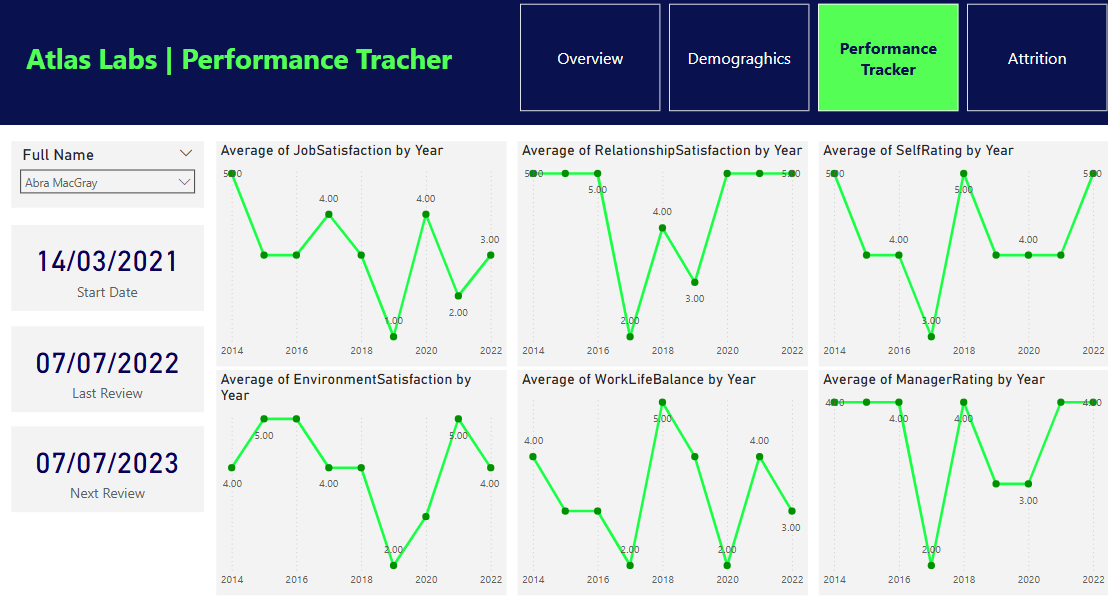

Layout of this report page (visuals, bound fields, positions):
{"tool":"powerbi","page":{"name":"Performance Tracker","canvas":[1280,720],"ordinal":2},"visuals":[{"type":"shape","box":[0,0,1279.7,155.8],"z":0},{"type":"pageNavigator","box":[599.6,16.2,680.4,124.4],"z":1000},{"type":"slicer","fields":{"Values":["Employee.Full Name"]},"box":[13,174.6,222.2,76.5],"z":2000},{"type":"card","fields":{"Values":["Min(Employee.HireDate)"]},"box":[13,271.2,222.2,99.6],"z":3000},{"type":"card","fields":{"Values":["Max(PerformanceRating.ReviewDate)"]},"box":[13,388.1,222.2,99.6],"z":4000},{"type":"card","fields":{"Values":["PerformanceRating.Next Review"]},"box":[13,503.5,222.2,99.6],"z":5000},{"type":"lineChart","fields":{"Category":["PerformanceRating.ReviewDate.Variation.Date Hierarchy.Year","PerformanceRating.ReviewDate.Variation.Date Hierarchy.Quarter","PerformanceRating.ReviewDate.Variation.Date Hierarchy.Month","PerformanceRating.ReviewDate.Variation.Date Hierarchy.Day"],"Y":["Avg(PerformanceRating.JobSatisfaction)"]},"box":[249.6,174.6,335,260],"z":6000},{"type":"lineChart","fields":{"Category":["PerformanceRating.ReviewDate.Variation.Date Hierarchy.Year","PerformanceRating.ReviewDate.Variation.Date Hierarchy.Quarter","PerformanceRating.ReviewDate.Variation.Date Hierarchy.Month","PerformanceRating.ReviewDate.Variation.Date Hierarchy.Day"],"Y":["Avg(PerformanceRating.RelationshipSatisfaction)"]},"box":[597.3,174.6,335,260],"z":7000},{"type":"lineChart","fields":{"Category":["PerformanceRating.ReviewDate.Variation.Date Hierarchy.Year","PerformanceRating.ReviewDate.Variation.Date Hierarchy.Quarter","PerformanceRating.ReviewDate.Variation.Date Hierarchy.Month","PerformanceRating.ReviewDate.Variation.Date Hierarchy.Day"],"Y":["Avg(PerformanceRating.SelfRating)"]},"box":[945,174.6,335,260],"z":8000},{"type":"lineChart","fields":{"Category":["PerformanceRating.ReviewDate.Variation.Date Hierarchy.Year","PerformanceRating.ReviewDate.Variation.Date Hierarchy.Quarter","PerformanceRating.ReviewDate.Variation.Date Hierarchy.Month","PerformanceRating.ReviewDate.Variation.Date Hierarchy.Day"],"Y":["Avg(PerformanceRating.EnvironmentSatisfaction)"]},"box":[249.6,438.6,335,260],"z":9000},{"type":"lineChart","fields":{"Category":["PerformanceRating.ReviewDate.Variation.Date Hierarchy.Year","PerformanceRating.ReviewDate.Variation.Date Hierarchy.Quarter","PerformanceRating.ReviewDate.Variation.Date Hierarchy.Month","PerformanceRating.ReviewDate.Variation.Date Hierarchy.Day"],"Y":["Avg(PerformanceRating.WorkLifeBalance)"]},"box":[597.3,438.6,335,260],"z":10000},{"type":"lineChart","fields":{"Category":["PerformanceRating.ReviewDate.Variation.Date Hierarchy.Year","PerformanceRating.ReviewDate.Variation.Date Hierarchy.Quarter","PerformanceRating.ReviewDate.Variation.Date Hierarchy.Month","PerformanceRating.ReviewDate.Variation.Date Hierarchy.Day"],"Y":["Avg(PerformanceRating.ManagerRating)"]},"box":[945,438.6,335,260],"z":11000}]}

Visuals, with their boxes on the page's 1280x720 design canvas (x1, y1, x2, y2). These are canvas units, not pixel positions in the 1108x605 screenshot, which may show the page scaled, cropped or inside an application window:
shape: 0,0,1280,156
pageNavigator: 600,16,1280,141
slicer - Employee.Full Name: 13,175,235,251
card - Min(Employee.HireDate): 13,271,235,371
card - Max(PerformanceRating.ReviewDate): 13,388,235,488
card - PerformanceRating.Next Review: 13,504,235,603
lineChart - PerformanceRating.ReviewDate.Variation.Date Hierarchy.Year x PerformanceRating.ReviewDate.Variation.Date Hierarchy.Quarter: 250,175,585,435
lineChart - PerformanceRating.ReviewDate.Variation.Date Hierarchy.Year x PerformanceRating.ReviewDate.Variation.Date Hierarchy.Quarter: 597,175,932,435
lineChart - PerformanceRating.ReviewDate.Variation.Date Hierarchy.Year x PerformanceRating.ReviewDate.Variation.Date Hierarchy.Quarter: 945,175,1280,435
lineChart - PerformanceRating.ReviewDate.Variation.Date Hierarchy.Year x PerformanceRating.ReviewDate.Variation.Date Hierarchy.Quarter: 250,439,585,699
lineChart - PerformanceRating.ReviewDate.Variation.Date Hierarchy.Year x PerformanceRating.ReviewDate.Variation.Date Hierarchy.Quarter: 597,439,932,699
lineChart - PerformanceRating.ReviewDate.Variation.Date Hierarchy.Year x PerformanceRating.ReviewDate.Variation.Date Hierarchy.Quarter: 945,439,1280,699
